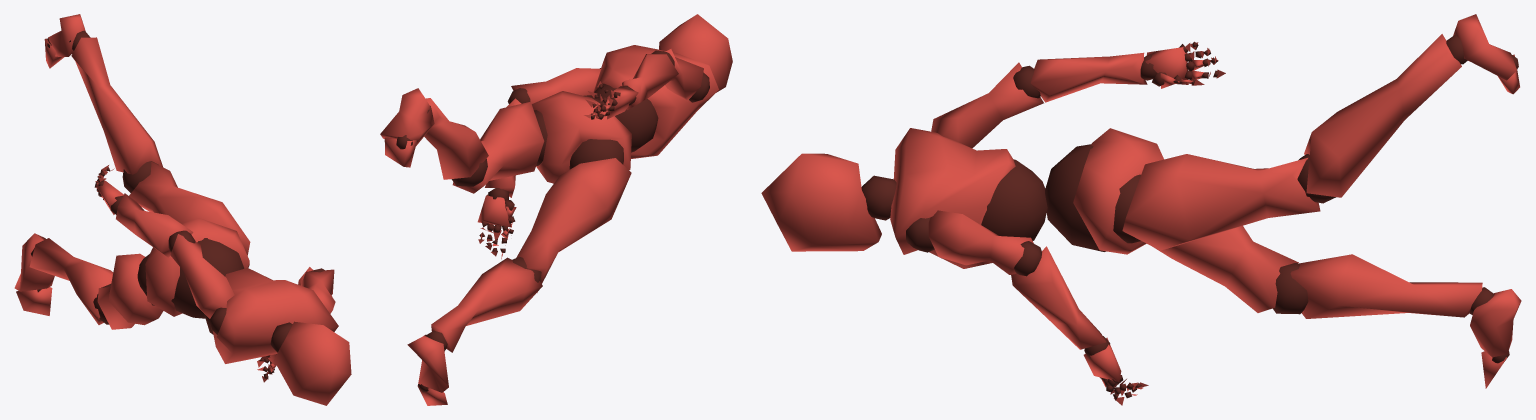
3 views of the same model, side by side, from view 1: azimuth 30°, elevation 25°; view 2: azimuth 150°, elevation 25°; view 3: azimuth 270°, elevation 25° (orthographic). The views are drawn at different scales.
Visible parts, largest first — view 1: Beta_Surface, Beta_Joints; view 2: Beta_Surface, Beta_Joints; view 3: Beta_Surface, Beta_Joints.
Part boxes in pixels (left/top/right/bottom): Beta_Surface: left=14, top=14, right=351, bottom=405; Beta_Joints: left=31, top=30, right=324, bottom=379; Beta_Surface: left=380, top=14, right=732, bottom=405; Beta_Joints: left=396, top=50, right=709, bottom=392; Beta_Surface: left=761, top=14, right=1521, bottom=405; Beta_Joints: left=861, top=34, right=1518, bottom=400.
Bounding box in the file's own units: 0.5992 × 0.9679 × 1.75.
